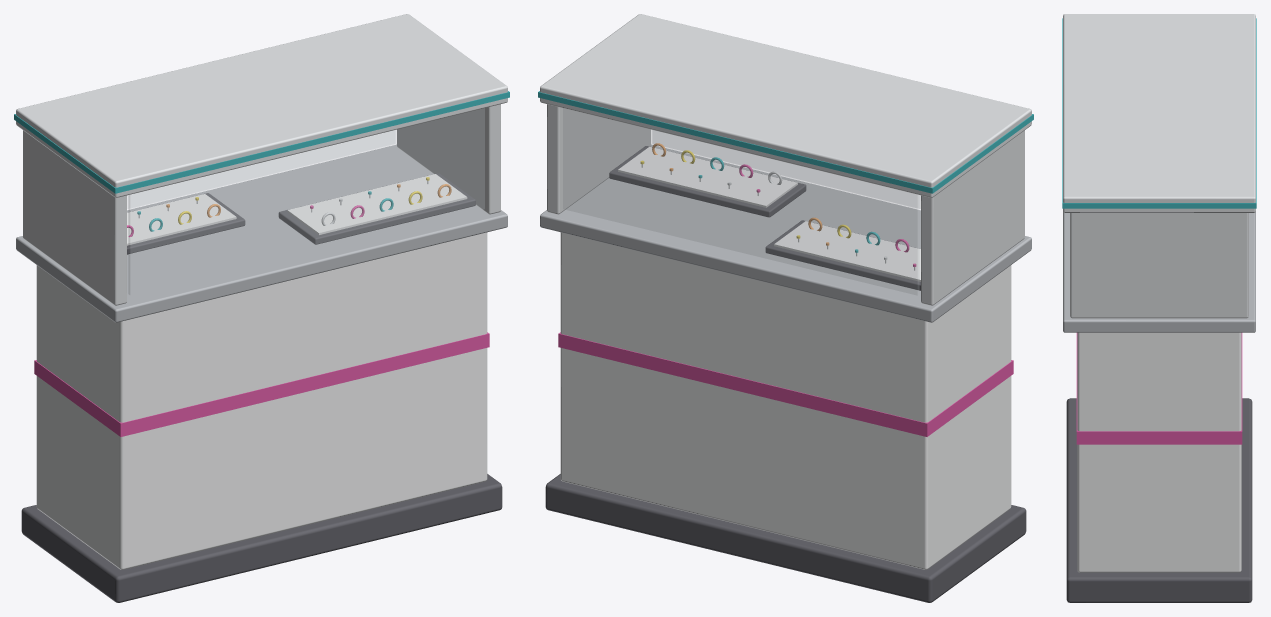
File: tattoo-and-piercing-studio-jewellery-display-case-2a8530d5__34547.glb
The picture shows the model from 3 angles, left to right: view 1: azimuth 30°, elevation 25°; view 2: azimuth 150°, elevation 25°; view 3: azimuth 270°, elevation 25°; orthographic projection. The views are drawn at different scales.
Parts seen in each view (by area): view 1: jewellery-display-case; view 2: jewellery-display-case; view 3: jewellery-display-case.
Boxes of the visible parts, box(x1,y1,x2,y2) form: jewellery-display-case: box(14, 14, 509, 602); jewellery-display-case: box(538, 14, 1033, 602); jewellery-display-case: box(1062, 14, 1256, 602).
Bounding box in the file's own units: 1.22 × 1.26 × 0.5439.
